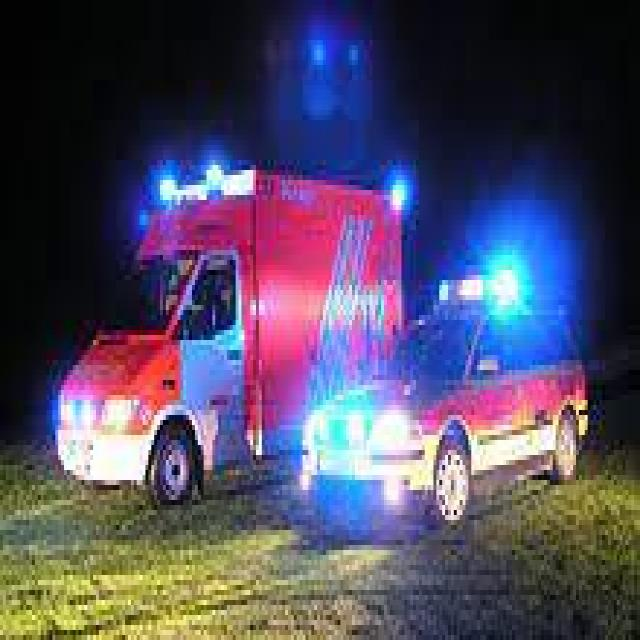ambulance: (291, 356, 461, 522), (40, 361, 173, 489), (419, 246, 544, 352), (145, 154, 261, 228)
